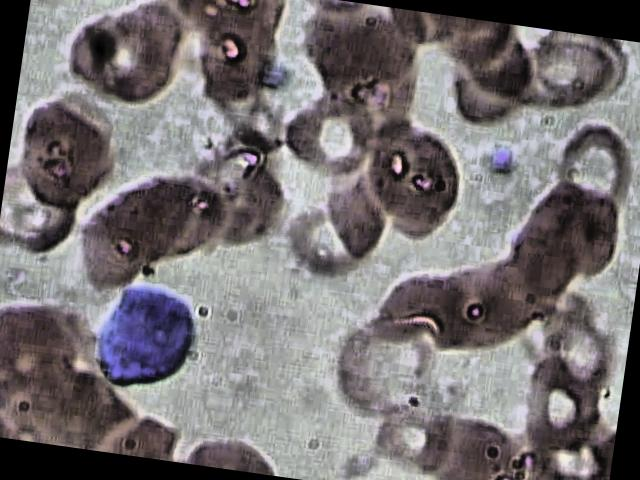Platelets: (476, 133, 524, 184), (263, 54, 301, 96)
RBC: (5, 87, 128, 223), (351, 113, 470, 244), (366, 250, 494, 371), (324, 308, 451, 429), (418, 240, 545, 360), (496, 197, 610, 312), (524, 166, 638, 280), (521, 278, 635, 390), (282, 171, 398, 275), (262, 192, 378, 296), (274, 83, 388, 187), (65, 181, 166, 297), (100, 156, 201, 272), (139, 153, 240, 269), (189, 139, 290, 255), (50, 0, 151, 111), (182, 0, 283, 111), (0, 147, 96, 263), (91, 0, 192, 110), (0, 290, 86, 407), (513, 350, 612, 450), (432, 46, 542, 136), (448, 30, 557, 120), (514, 31, 622, 120), (544, 108, 640, 208), (423, 400, 522, 480), (184, 420, 282, 476)
WBC: (76, 270, 211, 404)
